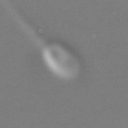normal: (2, 1, 46, 47)
